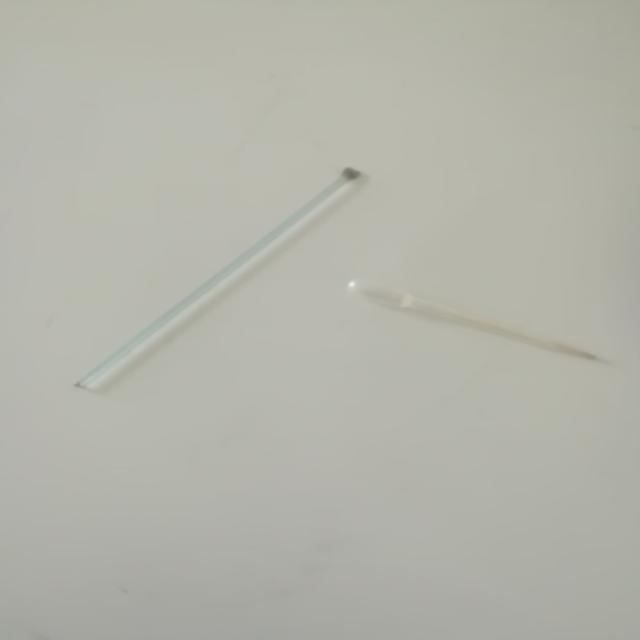Glass_Rod: (48, 138, 360, 404)
Pipette: (351, 268, 621, 377)
